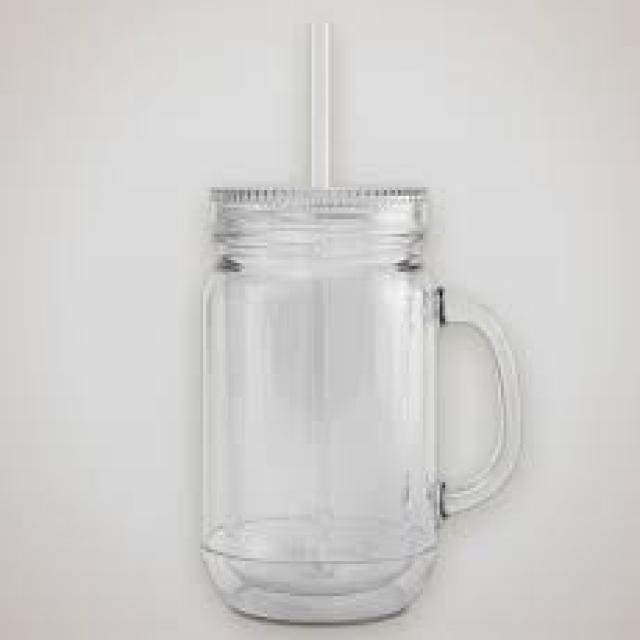glass: (195, 187, 520, 622)
